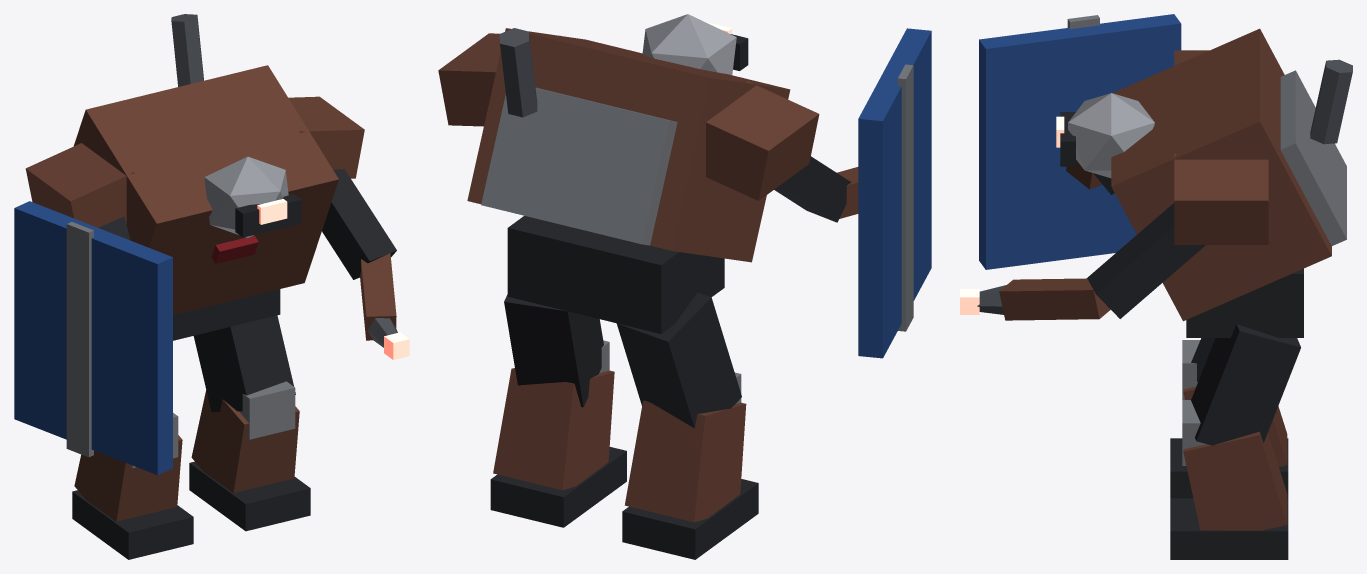
Rendered from repairer.glb.
The picture shows the model from 3 angles, left to right: view 1: azimuth 30°, elevation 25°; view 2: azimuth 150°, elevation 25°; view 3: azimuth 270°, elevation 25°; orthographic projection. The views are drawn at different scales.
Visible parts, largest first — view 1: RepairerHull, RepairerGlow; view 2: RepairerHull; view 3: RepairerHull, RepairerGlow.
Boxes of the visible parts, box(x1,y1,x2,y2) form: RepairerHull: box(14, 14, 397, 559); RepairerGlow: box(257, 199, 409, 359); RepairerHull: box(438, 14, 931, 559); RepairerHull: box(977, 14, 1352, 559); RepairerGlow: box(960, 116, 1064, 314).
Size of the model in its own units: 1.08 by 1.33 by 0.999.
